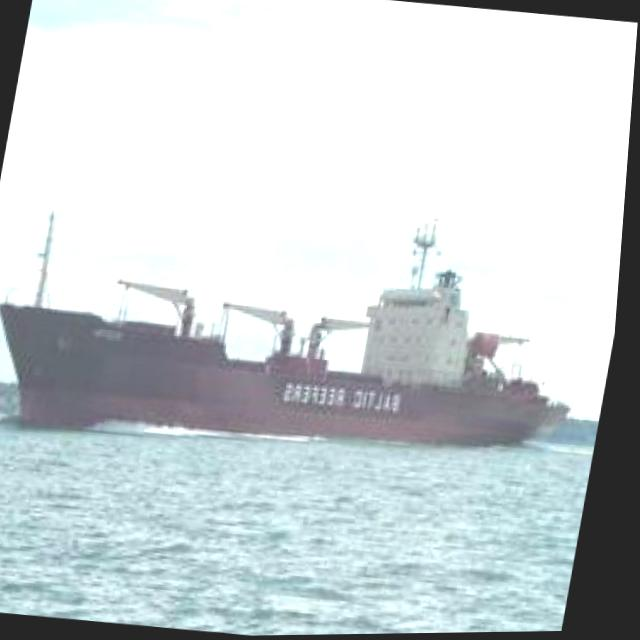ship2: (0, 212, 578, 452)
